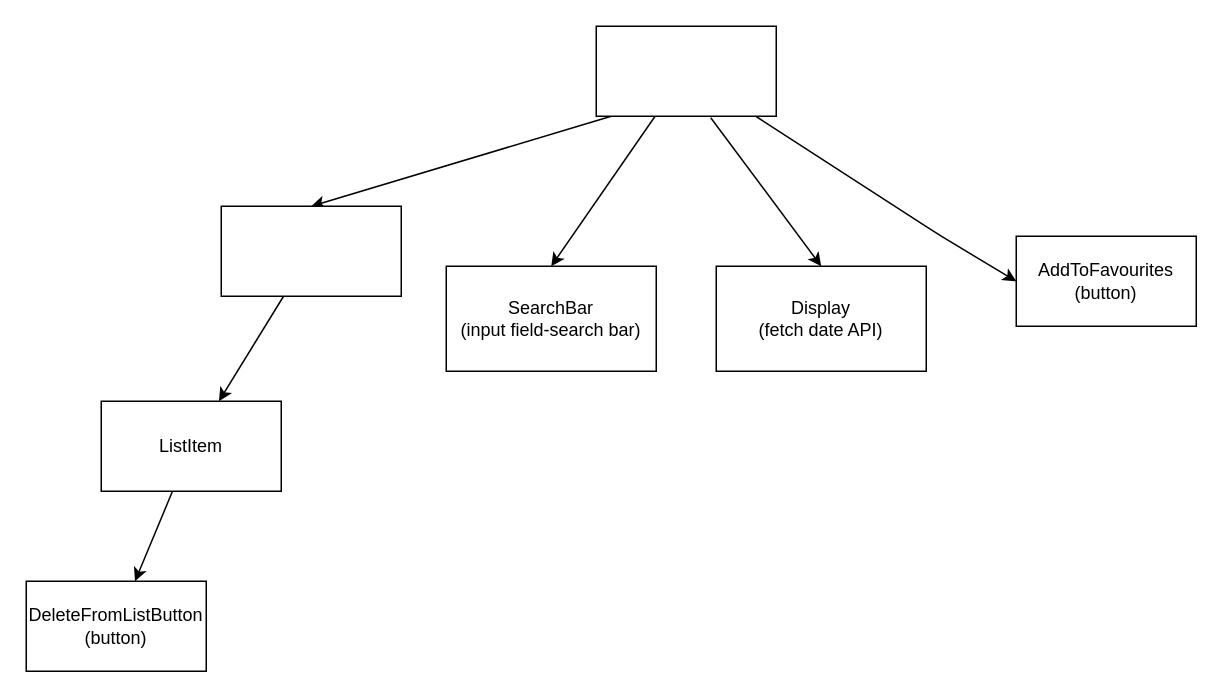
The diagram is 1223 pixels wide and 698 high, and some of its shapes have lost their labels. The shapes that lost their labels are listed below. From the top down, each one's centre as x and y in pixels, then its label:
At point (685, 70): "App".
At point (310, 250): "FavouritesList".
